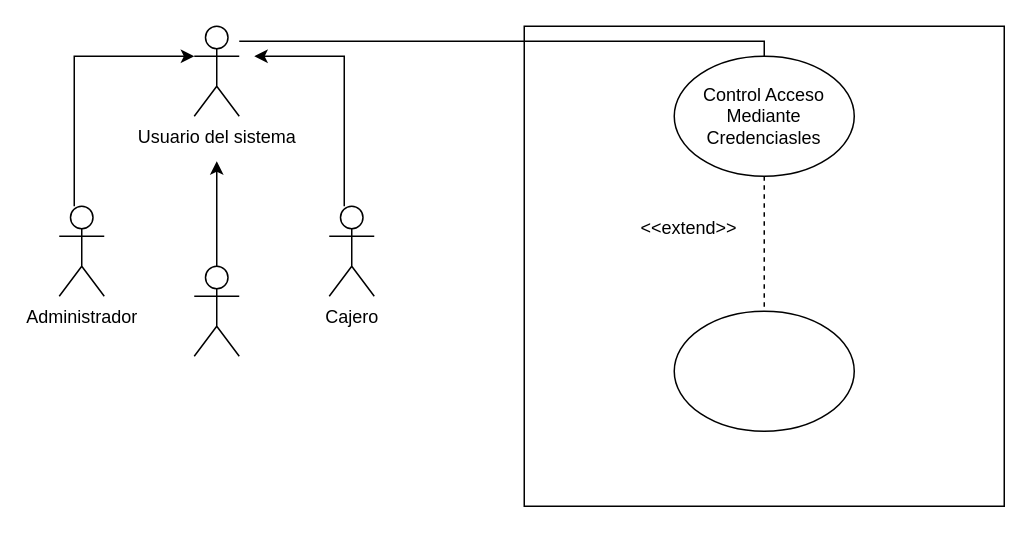
This 1031x533 diagram has some shape labels left out. The shapes that lost their labels are listed below. From the top down, each one's centre as x and y in pixels, then its label:
At (216,310): "Bodeguero".
At (763,370): "Restringiendo Modificacion de producto (Bloque producto)".
